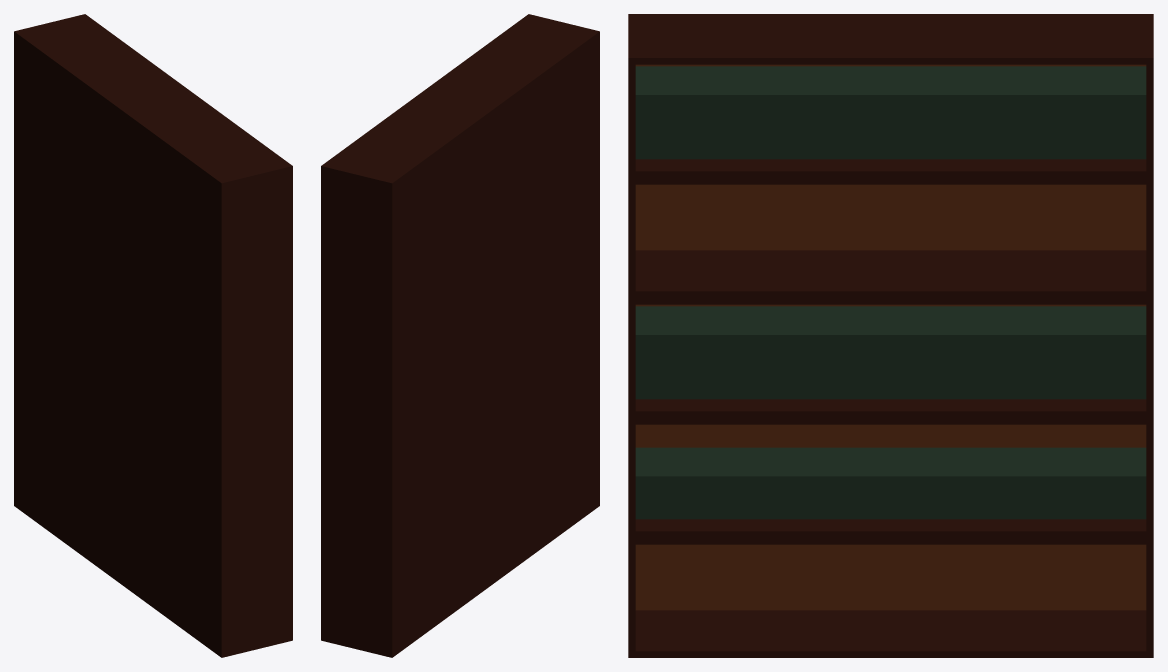
File: bookshelf.FBX
The picture shows the model from 3 angles, left to right: view 1: azimuth 30°, elevation 25°; view 2: azimuth 150°, elevation 25°; view 3: azimuth 270°, elevation 25°; orthographic projection. The views are drawn at different scales.
Visible parts, largest first — view 1: Bookcase; view 2: Bookcase; view 3: Bookcase.
Boxes of the visible parts, box(x1,y1,x2,y2) form: Bookcase: box(14, 14, 292, 657); Bookcase: box(321, 14, 599, 657); Bookcase: box(628, 14, 1153, 657).
Bounding box in the file's own units: 429 × 2733 × 2168.
